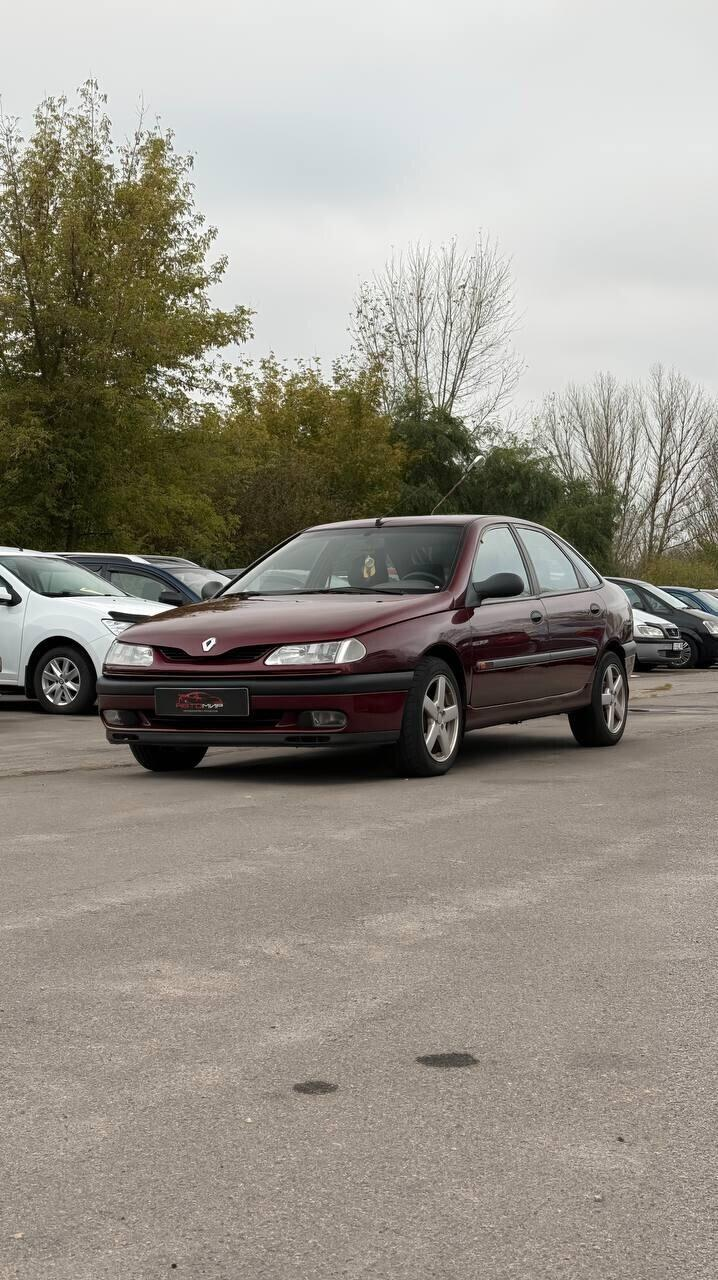Lahuna_1993-1999: (73, 510, 642, 802)
